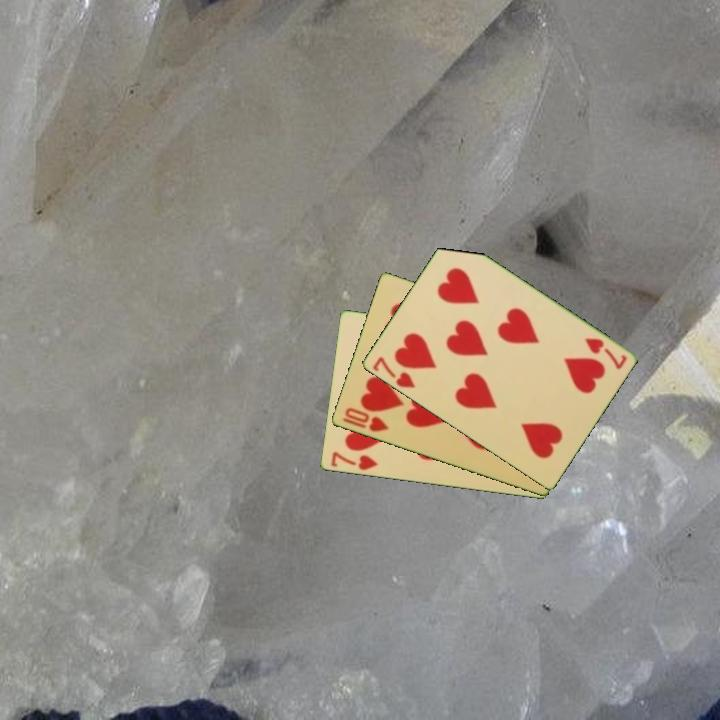10h: (339, 404, 391, 435)
7h: (581, 334, 629, 373), (369, 353, 418, 391), (327, 448, 380, 473)
